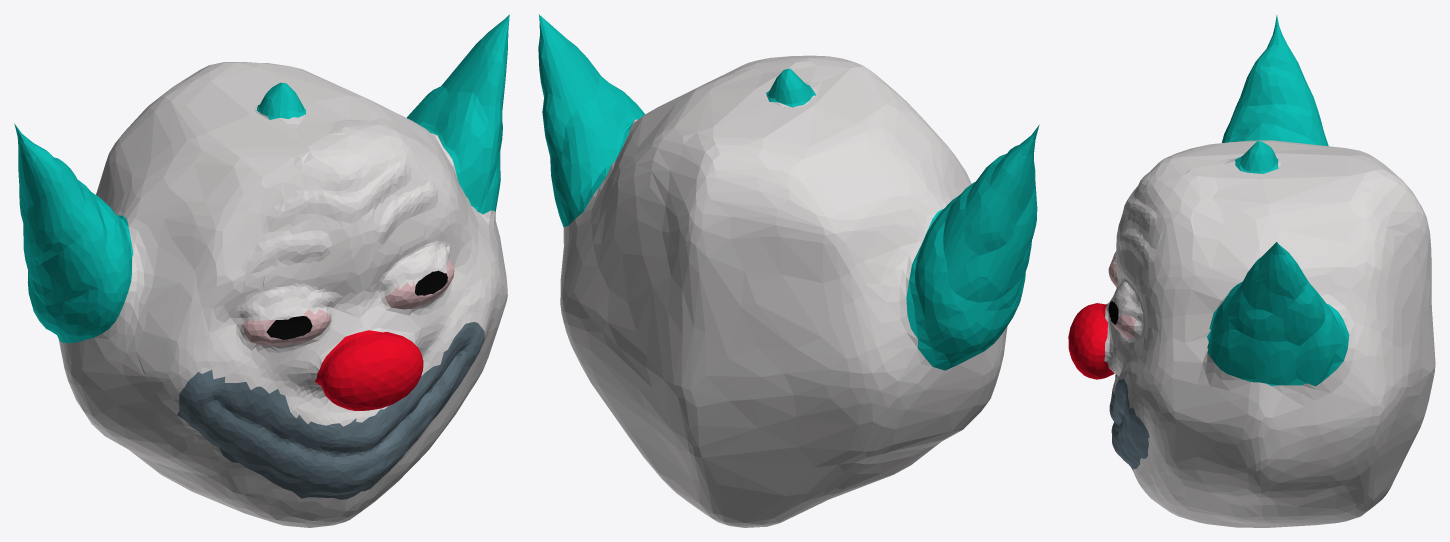
Rendered from Silly.fbx.
3 views of the same model, side by side, from view 1: azimuth 30°, elevation 25°; view 2: azimuth 150°, elevation 25°; view 3: azimuth 270°, elevation 25° (orthographic). The views are drawn at different scales.
Visible parts, largest first — view 1: Head; view 2: Head; view 3: Head.
Boxes of the visible parts, x1,y1,x2,y2 form: Head: [14, 14, 509, 527]; Head: [538, 14, 1039, 527]; Head: [1068, 15, 1435, 527].
Bounding box in the file's own units: 332 × 277 × 237.
